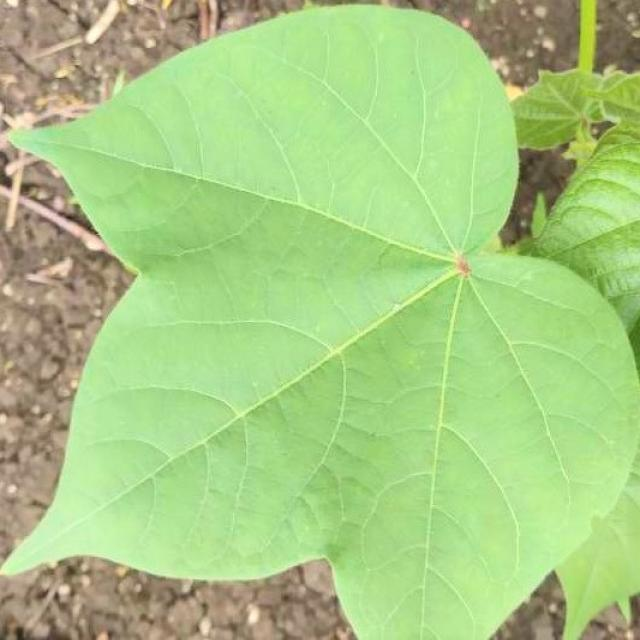Healthy Leaf: (126, 119, 598, 563)
